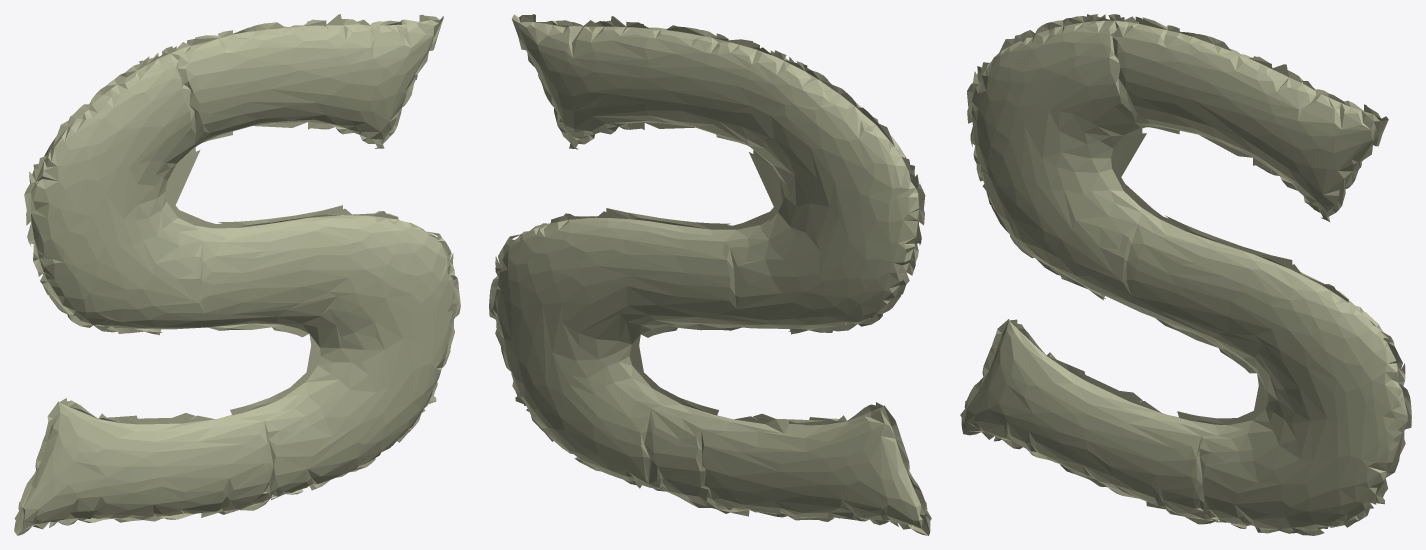
File: tinker.obj
The picture shows the model from 3 angles, left to right: view 1: azimuth 30°, elevation 25°; view 2: azimuth 150°, elevation 25°; view 3: azimuth 330°, elevation 25°; orthographic projection. The views are drawn at different scales.
Visible parts, largest first — view 1: obj_0; view 2: obj_0; view 3: obj_0.
Boxes of the visible parts, x1,y1,x2,y2 form: obj_0: (14, 14, 460, 535); obj_0: (489, 14, 931, 535); obj_0: (960, 14, 1411, 535).
Bounding box in the file's own units: 15.2 × 15.82 × 1.65.
